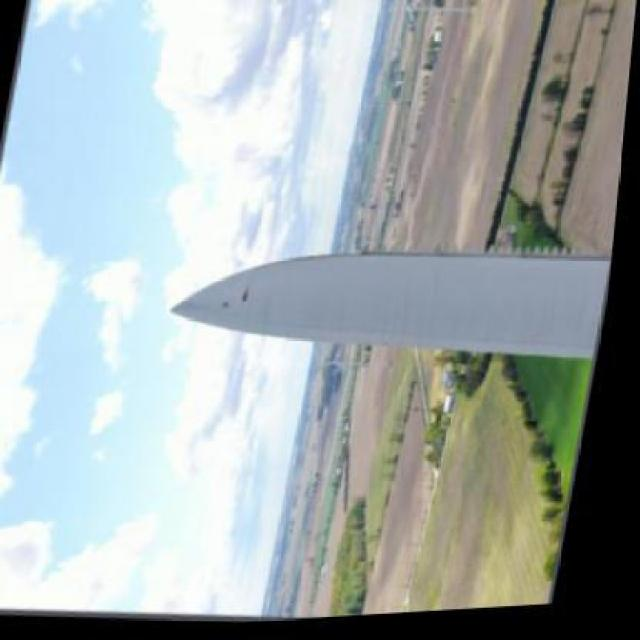Burn Mark: (246, 290, 260, 304)
